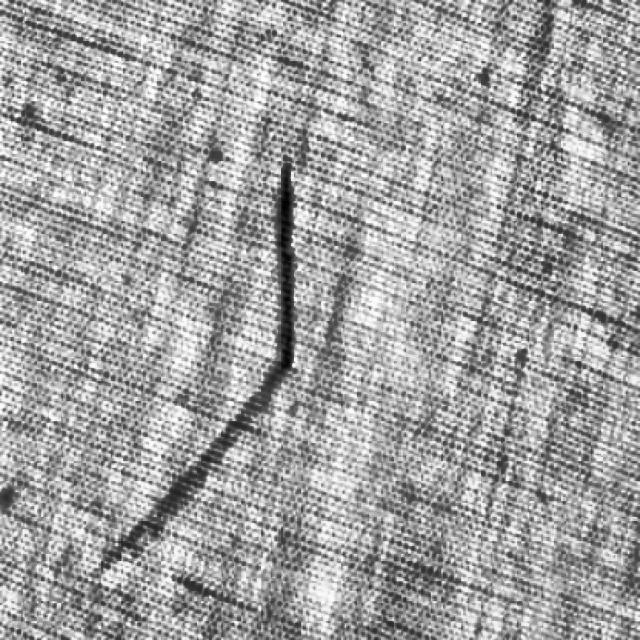oil_spot: (93, 370, 294, 582), (268, 145, 310, 370)
